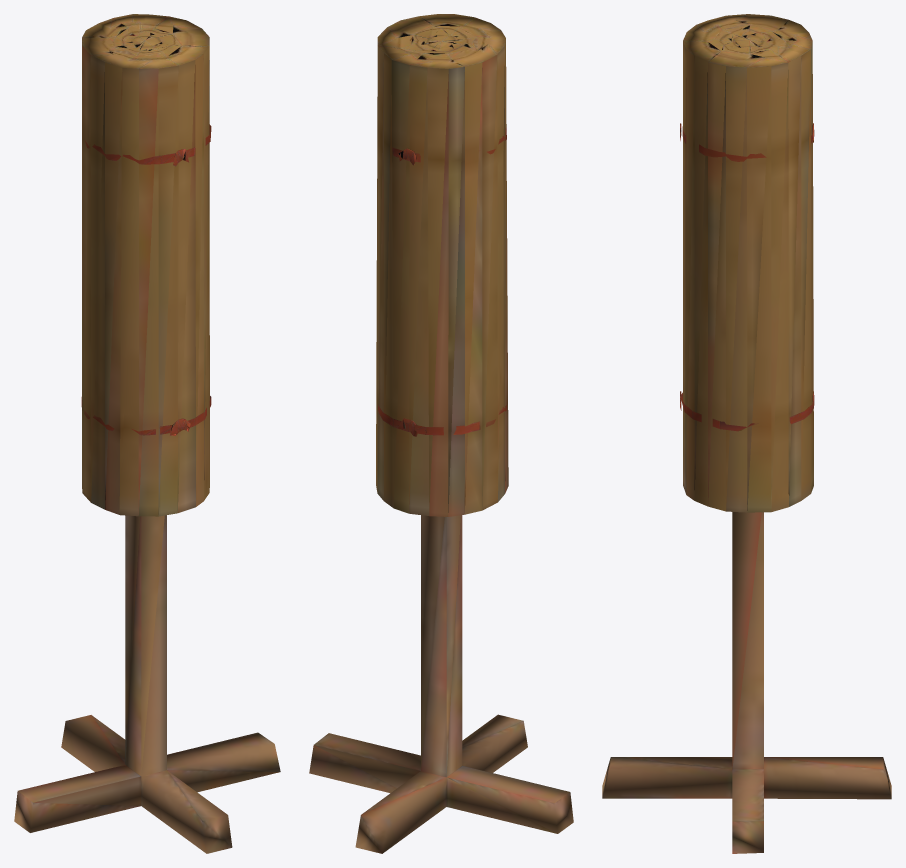
File: target-mobile.glb
3 views of the same model, side by side, from view 1: azimuth 30°, elevation 25°; view 2: azimuth 150°, elevation 25°; view 3: azimuth 270°, elevation 25° (orthographic).
Visible parts, largest first — view 1: geometry_0; view 2: geometry_0; view 3: geometry_0.
Part boxes in pixels (box(x1,y1,x2,y2)): geometry_0: box(14, 14, 280, 853); geometry_0: box(309, 14, 573, 853); geometry_0: box(602, 14, 891, 853).
Size of the model in its own units: 0.5542 by 1.6 by 0.5575.
1 material, 1 textured.
